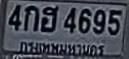4: (8, 3, 20, 30), (63, 6, 75, 32)
5: (107, 9, 121, 34)
6: (78, 8, 90, 33)
9: (92, 8, 105, 33)
A01: (23, 5, 38, 30)
A44: (40, 5, 58, 31)
BKK: (17, 39, 106, 58)
